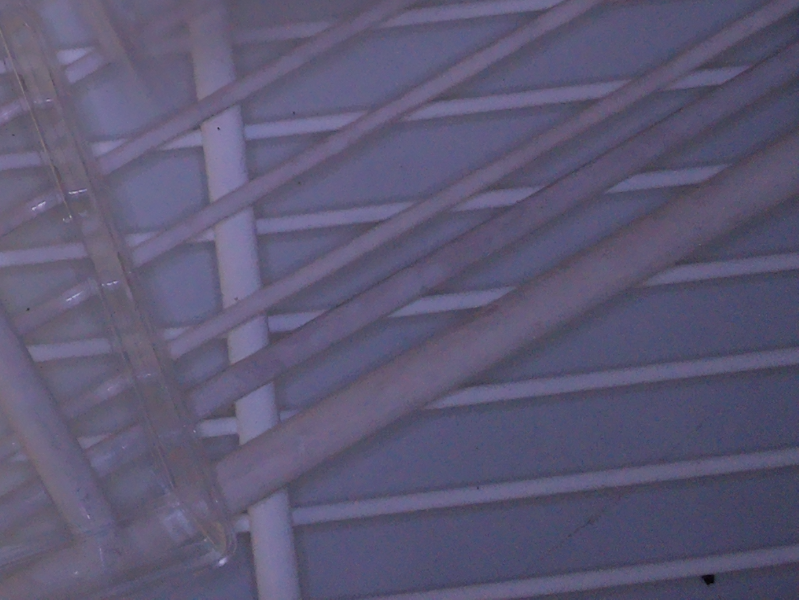plate: (1, 1, 237, 597)
